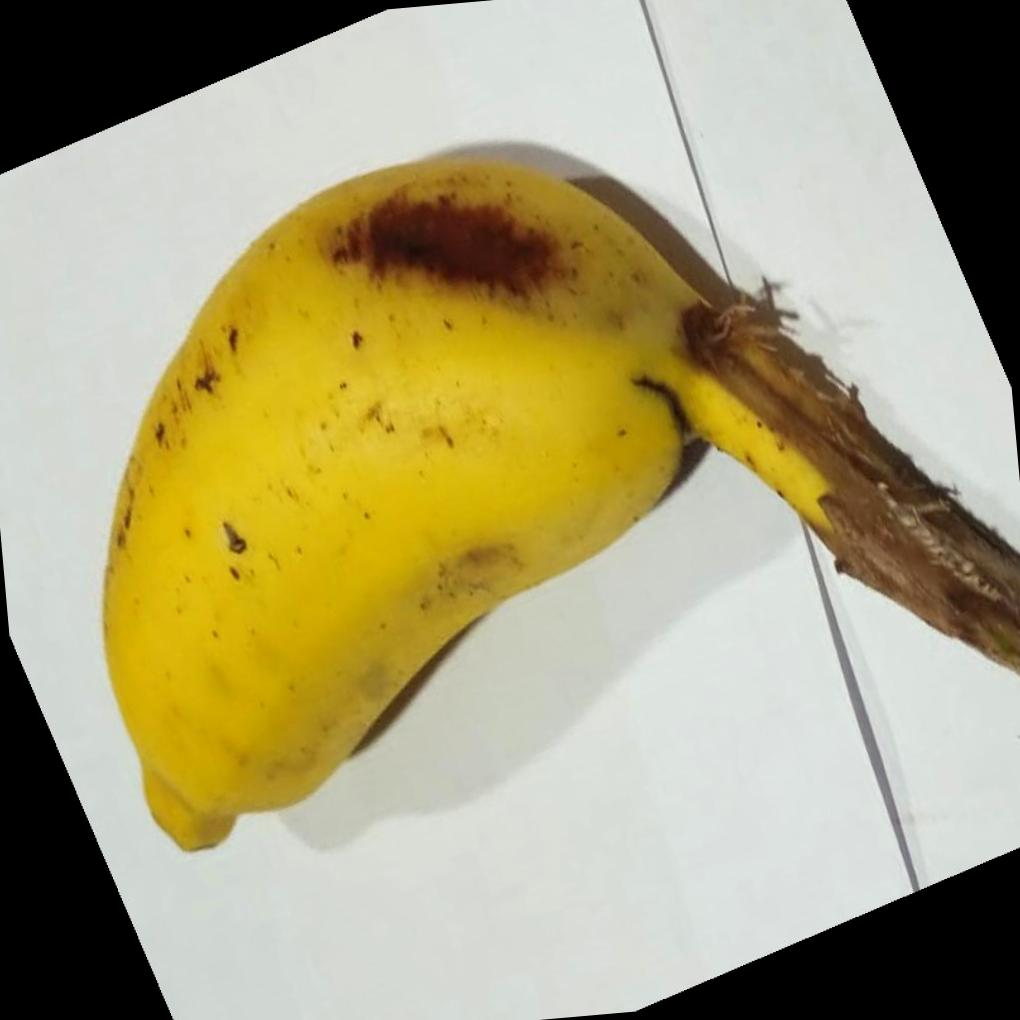Banana Ripe: (50, 106, 998, 868)
